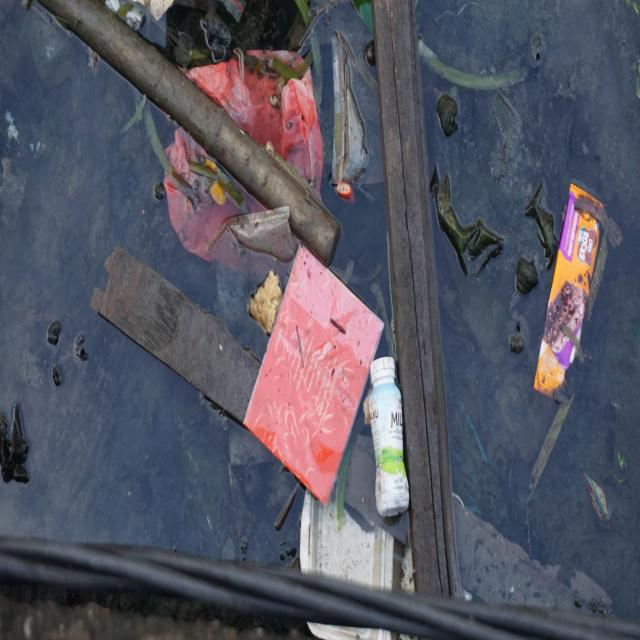Botol Plastik: (371, 352, 411, 522)
Bungkus Makanan: (299, 481, 395, 640), (535, 179, 603, 402)
Kantong Plastik: (163, 55, 327, 262)
